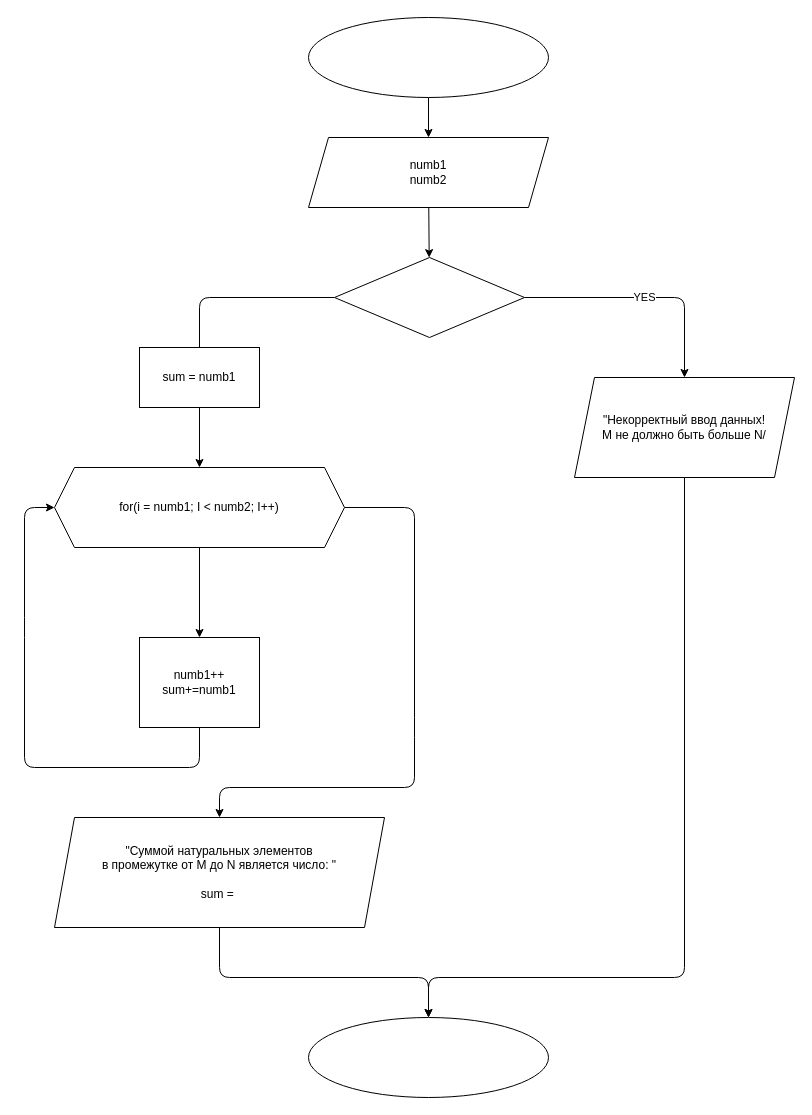
This 812x1115 diagram has some shape labels left out. The box of each missing label's shape, as (x1, y1, x2, y2) in pixels:
End: (308, 1016, 548, 1098)
if numb1 > numb2: (334, 256, 524, 338)
Start: (308, 16, 548, 98)
